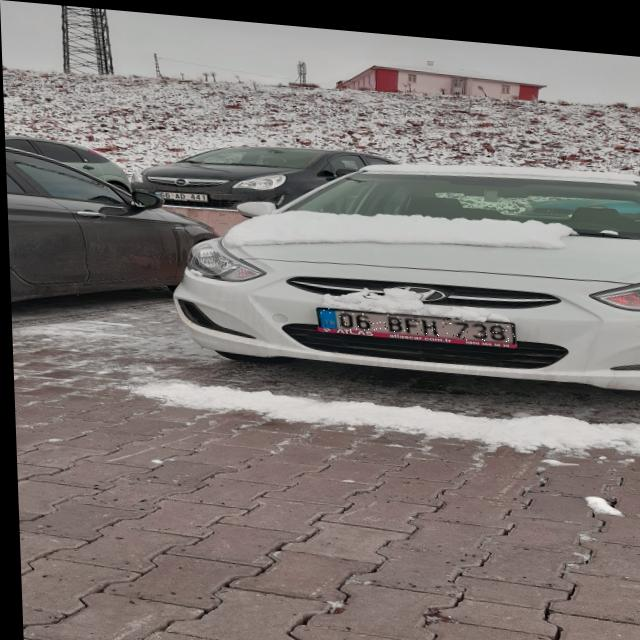license_plate: (316, 302, 513, 335)
